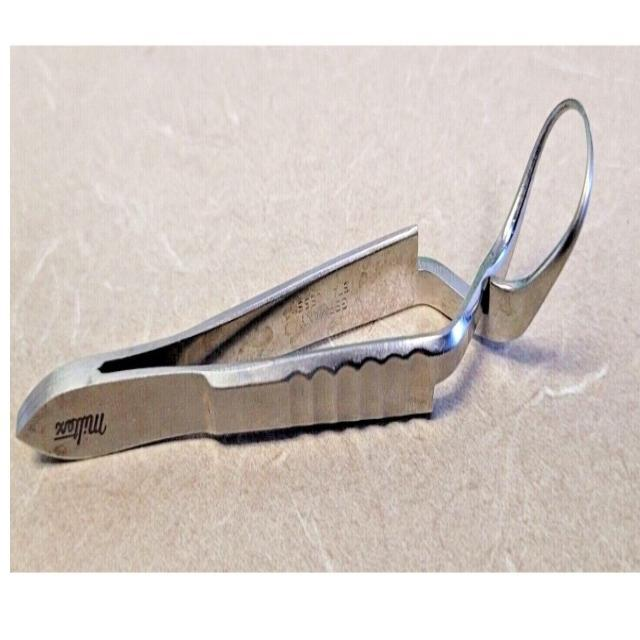Jones Towel Clamp: (13, 92, 601, 470)
